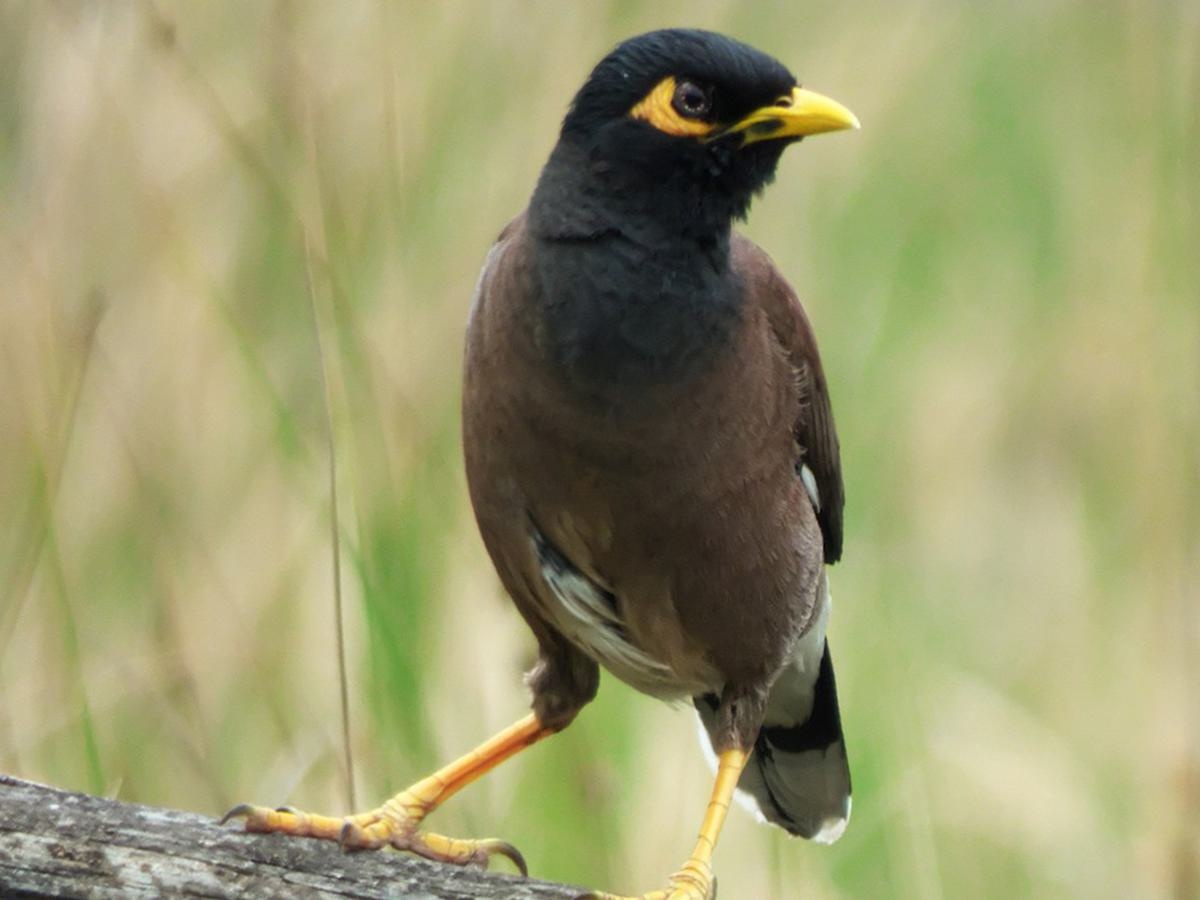myna: (421, 17, 904, 900)
